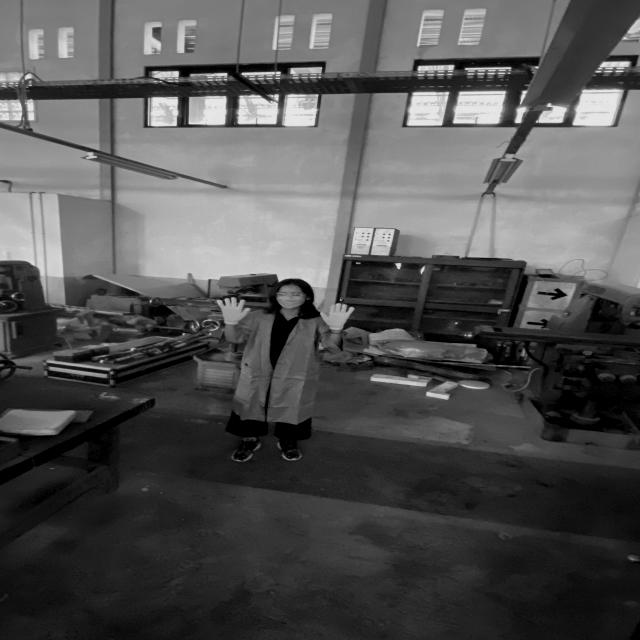face_mask: (274, 288, 307, 309)
glasses: (273, 290, 308, 298)
hand_glove: (215, 296, 252, 322), (318, 302, 354, 328)
head_nohelmet: (273, 276, 310, 290)
person: (212, 275, 359, 464)
shoes: (224, 434, 266, 463), (270, 434, 306, 462)
